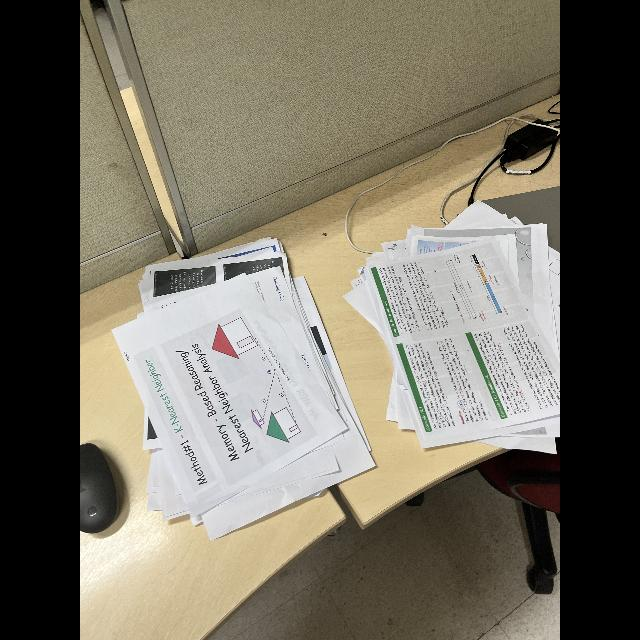reuseable_paper: (114, 238, 382, 542), (340, 194, 560, 463)
